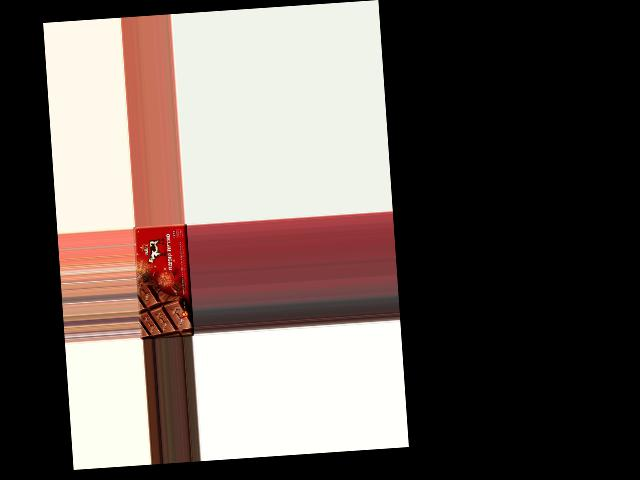chocolate: (133, 223, 194, 339)
